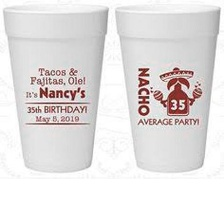paper_cup: (112, 0, 224, 177), (0, 0, 112, 176)
